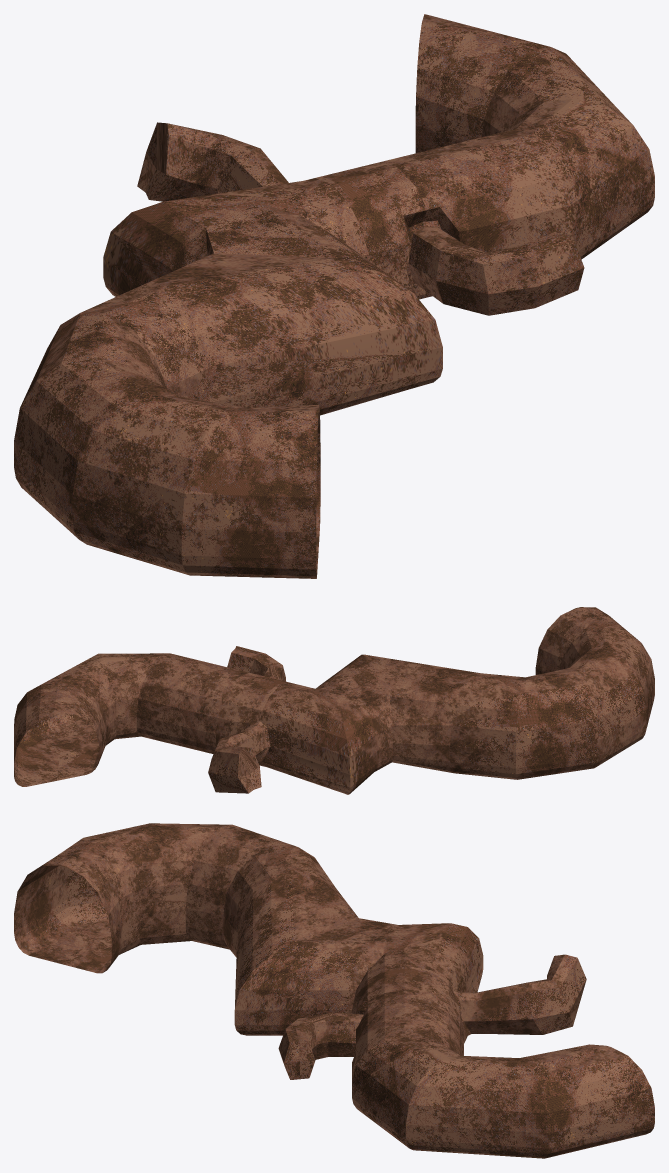
The model's file is Hallway Shell.fbx.
The picture shows the model from 3 angles, top to bottom: view 1: azimuth 30°, elevation 25°; view 2: azimuth 150°, elevation 25°; view 3: azimuth 270°, elevation 25°; orthographic projection. The views are drawn at different scales.
Visible parts, largest first — view 1: IGB_Hallway_Test_Tiles2.005, IGB_Hallway_Test_Tiles2.001, IGB_Hallway_Test_Tiles2.002, IGB_Hallway_Test_Tiles2, IGB_Hallway_Test_Tiles2.003, IGB_Hallway_Test_Tiles2.004; view 2: IGB_Hallway_Test_Tiles2.005, IGB_Hallway_Test_Tiles2, IGB_Hallway_Test_Tiles2.001, IGB_Hallway_Test_Tiles2.002, IGB_Hallway_Test_Tiles2.004, IGB_Hallway_Test_Tiles2.003; view 3: IGB_Hallway_Test_Tiles2.005, IGB_Hallway_Test_Tiles2.001, IGB_Hallway_Test_Tiles2, IGB_Hallway_Test_Tiles2.002, IGB_Hallway_Test_Tiles2.004, IGB_Hallway_Test_Tiles2.003.
Part boxes in pixels (bbox=[...]): IGB_Hallway_Test_Tiles2.005: bbox=[14, 253, 442, 578]; IGB_Hallway_Test_Tiles2.001: bbox=[415, 14, 654, 259]; IGB_Hallway_Test_Tiles2.002: bbox=[327, 129, 573, 299]; IGB_Hallway_Test_Tiles2: bbox=[103, 175, 411, 296]; IGB_Hallway_Test_Tiles2.003: bbox=[408, 227, 584, 315]; IGB_Hallway_Test_Tiles2.004: bbox=[137, 122, 288, 201]; IGB_Hallway_Test_Tiles2.005: bbox=[364, 607, 654, 779]; IGB_Hallway_Test_Tiles2: bbox=[249, 654, 392, 794]; IGB_Hallway_Test_Tiles2.001: bbox=[14, 653, 169, 786]; IGB_Hallway_Test_Tiles2.002: bbox=[136, 653, 281, 753]; IGB_Hallway_Test_Tiles2.004: bbox=[208, 724, 267, 793]; IGB_Hallway_Test_Tiles2.003: bbox=[227, 646, 285, 681]; IGB_Hallway_Test_Tiles2.005: bbox=[14, 823, 358, 1008]; IGB_Hallway_Test_Tiles2.001: bbox=[352, 1035, 654, 1158]; IGB_Hallway_Test_Tiles2: bbox=[234, 918, 483, 1035]; IGB_Hallway_Test_Tiles2.002: bbox=[352, 970, 467, 1082]; IGB_Hallway_Test_Tiles2.004: bbox=[457, 954, 586, 1034]; IGB_Hallway_Test_Tiles2.003: bbox=[278, 1012, 363, 1079].
Bounding box in the file's own units: 10594 × 1798 × 10653.
